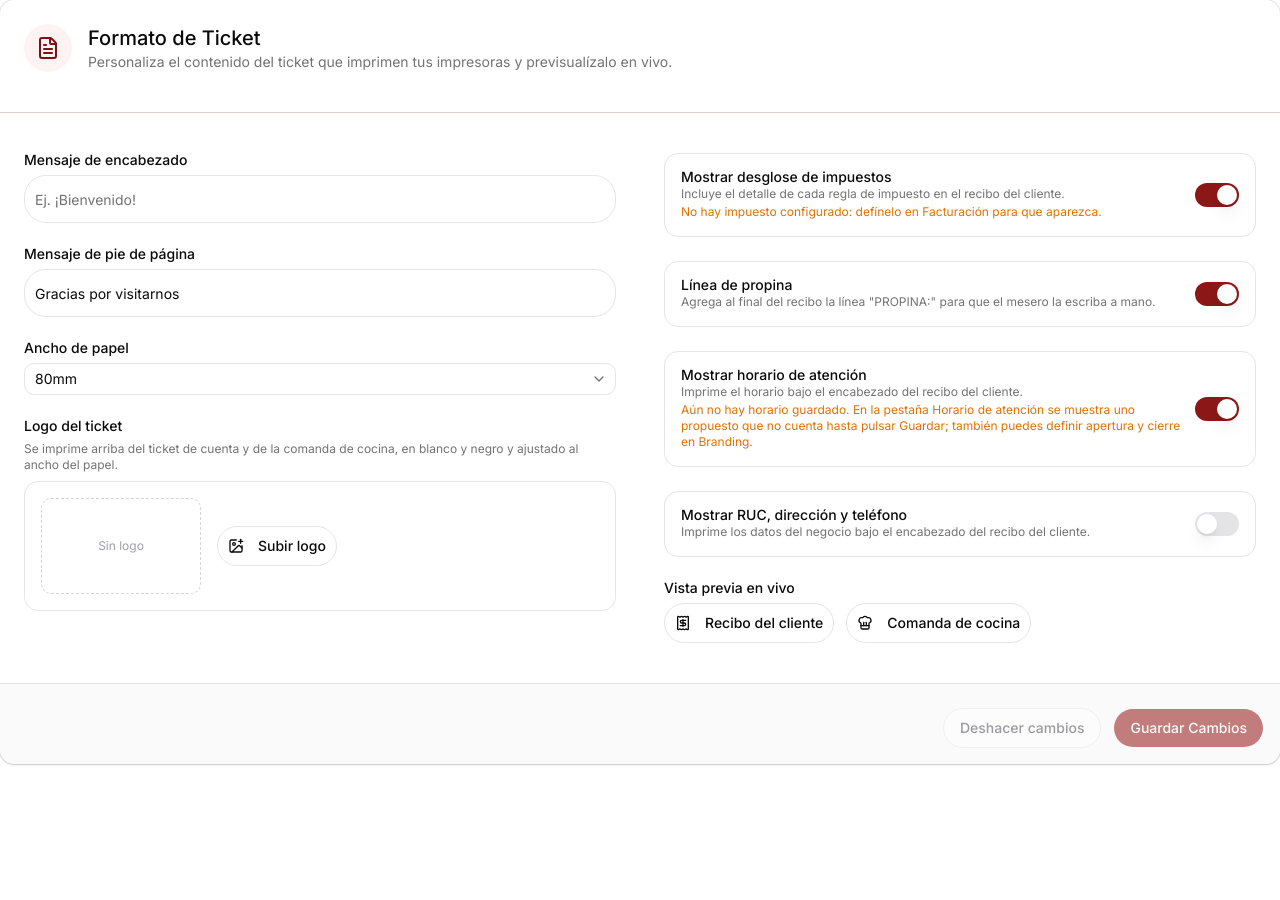
Test: TicketSettings preview: tax, hours and the tip line › switching the tip option off removes the PROPINA line
Click the switch named "Línea de propina" in the row of "Línea de propina" at (1217, 294), box [1195, 282, 1239, 306]
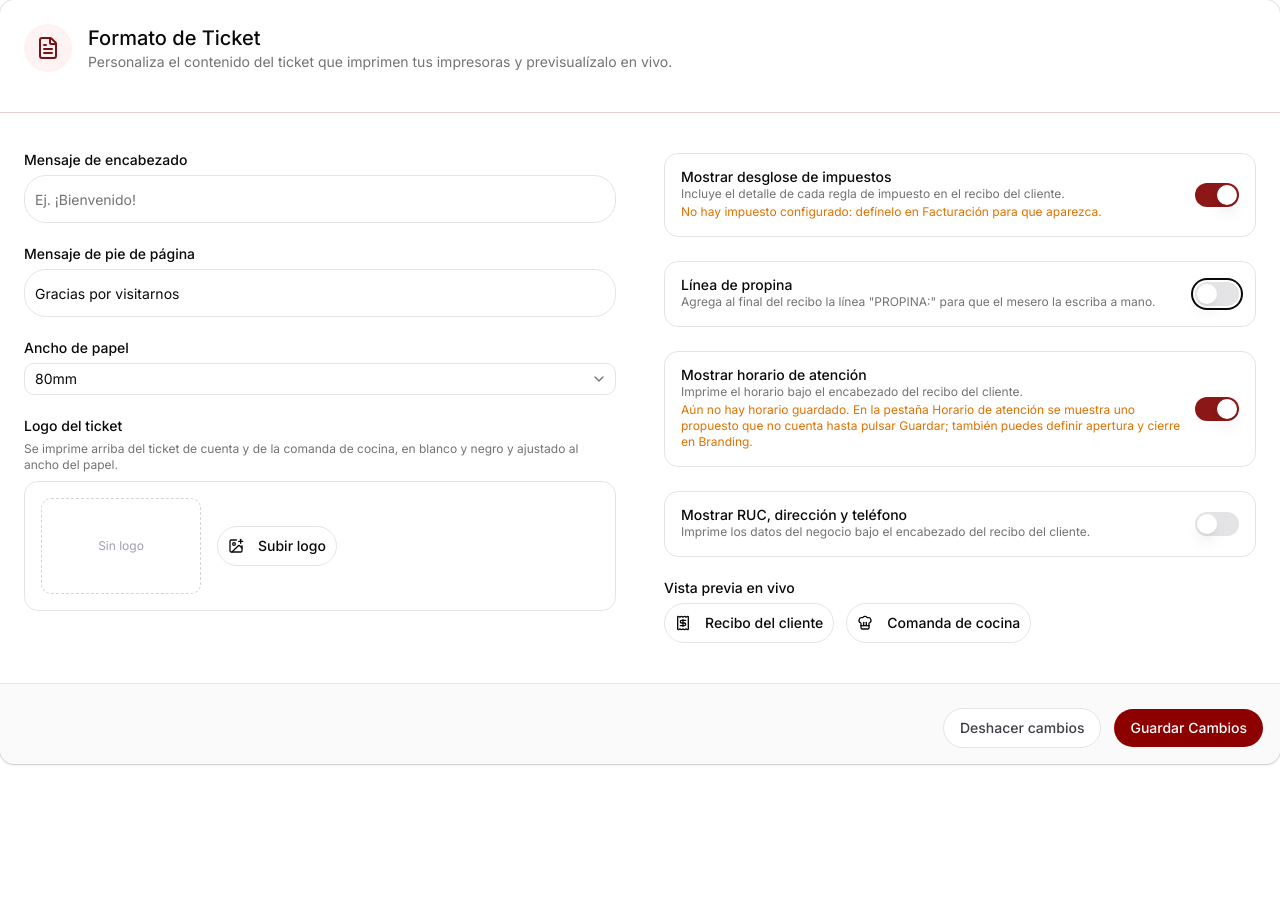
Click the button "Recibo del cliente" at (749, 623), box [664, 603, 834, 643]
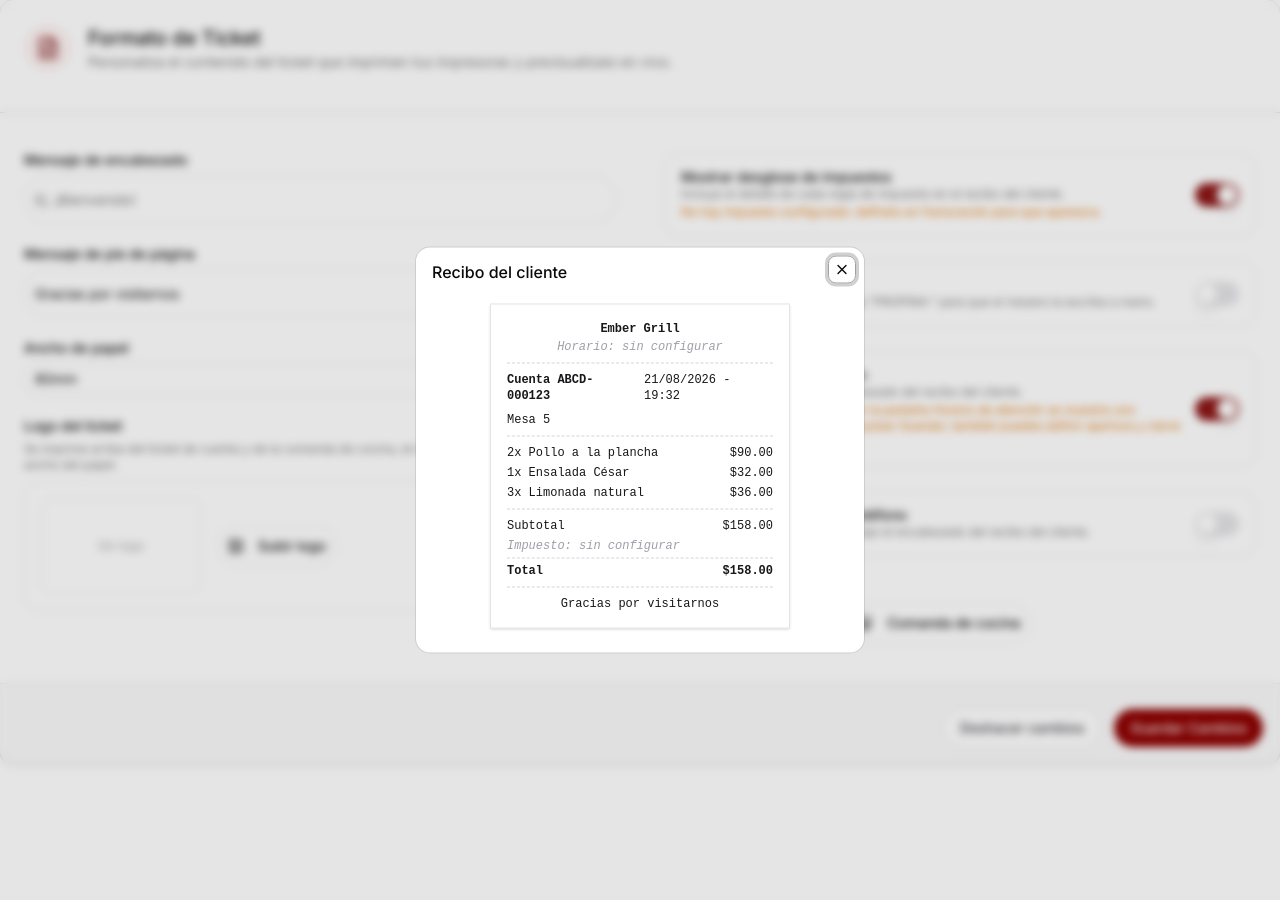
expect the text "Ember Grill" is shown: met, box [600, 322, 680, 336]
